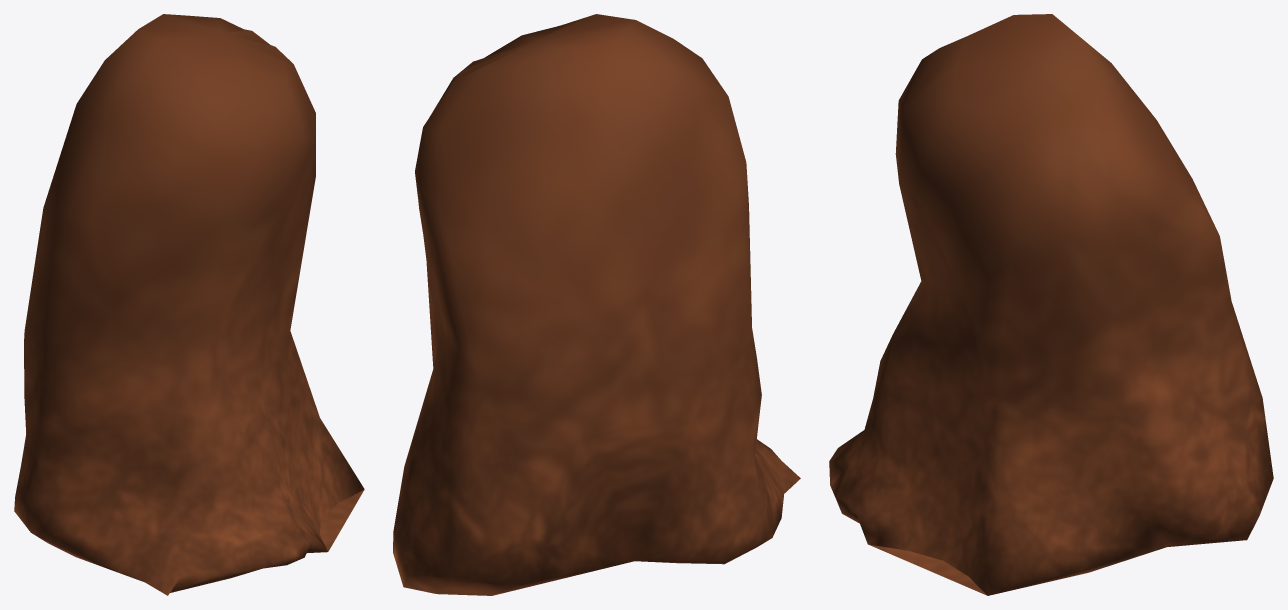
The model's file is roca 3.fbx.
3 renders of one model, left to right at view 1: azimuth 30°, elevation 25°; view 2: azimuth 150°, elevation 25°; view 3: azimuth 270°, elevation 25°, orthographic. The views are drawn at different scales.
Parts seen in each view (by area): view 1: RockLg3.002; view 2: RockLg3.002; view 3: RockLg3.002.
Part boxes in pixels (x1=…): RockLg3.002: x1=14, y1=14, x2=364, y2=595; RockLg3.002: x1=393, y1=14, x2=800, y2=595; RockLg3.002: x1=829, y1=14, x2=1273, y2=595.
Bounding box in the file's own units: 313 × 447 × 369.
Materials: 1 (1 with a texture image).
